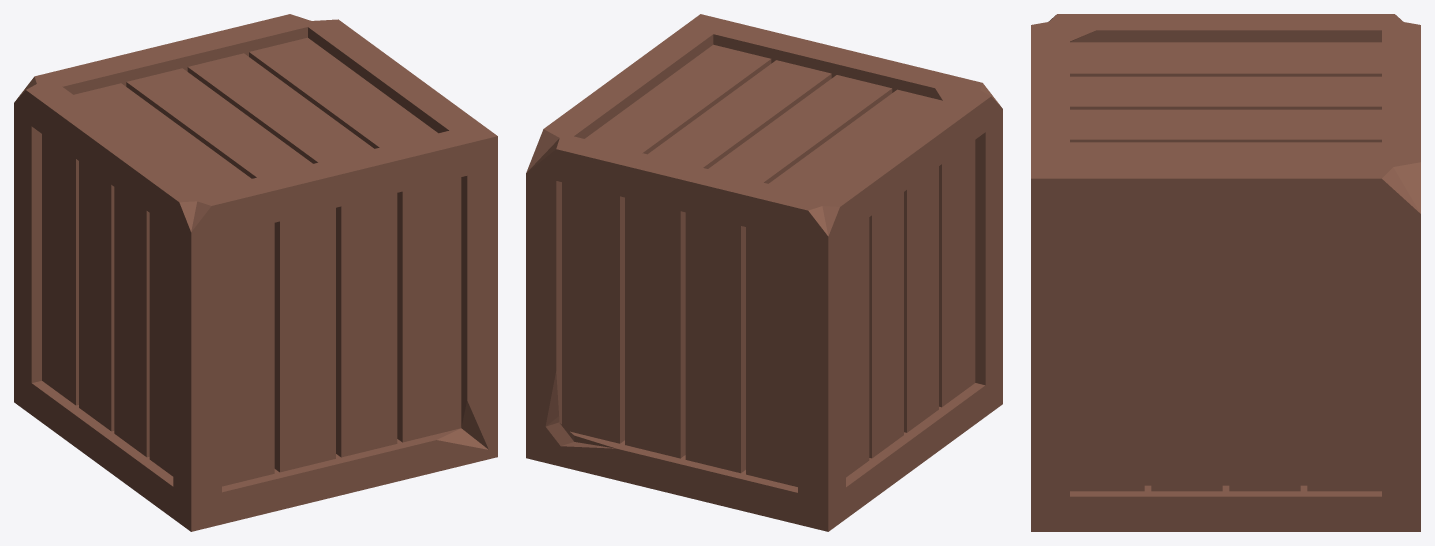
The model's file is 068 Wood_Box.FBX.
The picture shows the model from 3 angles, left to right: view 1: azimuth 30°, elevation 25°; view 2: azimuth 150°, elevation 25°; view 3: azimuth 270°, elevation 25°; orthographic projection. The views are drawn at different scales.
Parts seen in each view (by area): view 1: Wood box_002; view 2: Wood box_002; view 3: Wood box_002.
Boxes of the visible parts, x1=… form: Wood box_002: x1=14, y1=14, x2=497, y2=531; Wood box_002: x1=526, y1=14, x2=1002, y2=531; Wood box_002: x1=1031, y1=14, x2=1420, y2=531.
Size of the model in its own units: 60 by 60 by 60.
